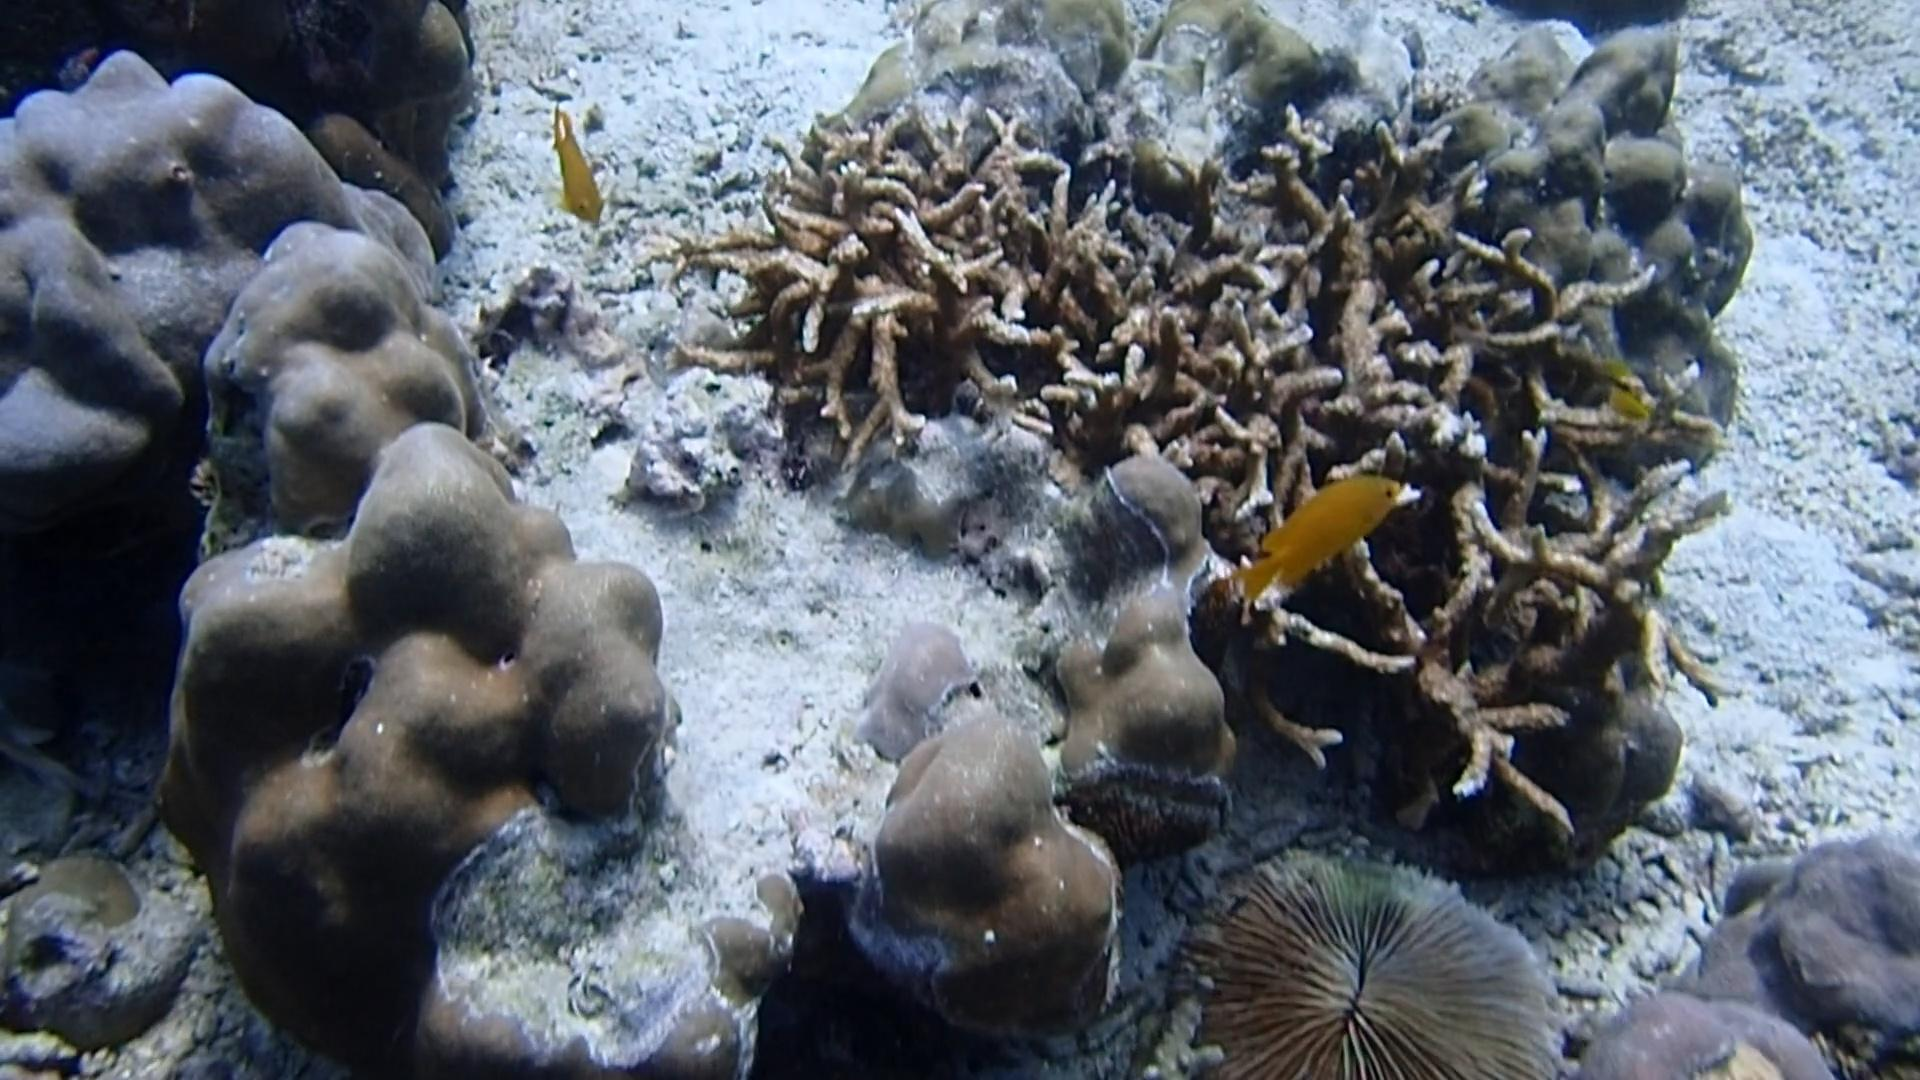Yellow Fish: (1225, 452, 1412, 611), (538, 96, 617, 239), (1594, 380, 1659, 431)
